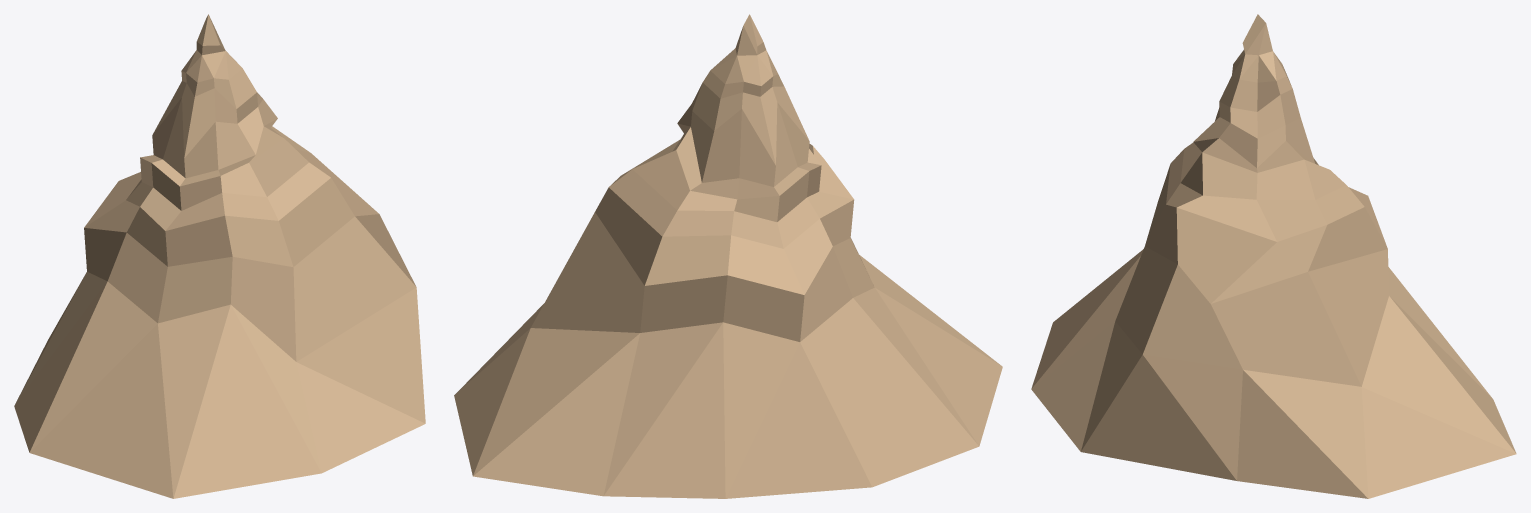
File: Mountain1.glb
3 renders of one model, left to right at view 1: azimuth 30°, elevation 25°; view 2: azimuth 150°, elevation 25°; view 3: azimuth 270°, elevation 25°, orthographic. The views are drawn at different scales.
Visible parts, largest first — view 1: Cube; view 2: Cube; view 3: Cube.
Boxes of the visible parts, x1=… form: Cube: x1=14, y1=14, x2=425, y2=498; Cube: x1=454, y1=14, x2=1002, y2=498; Cube: x1=1031, y1=14, x2=1516, y2=498.
Bounding box in the file's own units: 18.1 × 15.63 × 18.01.
